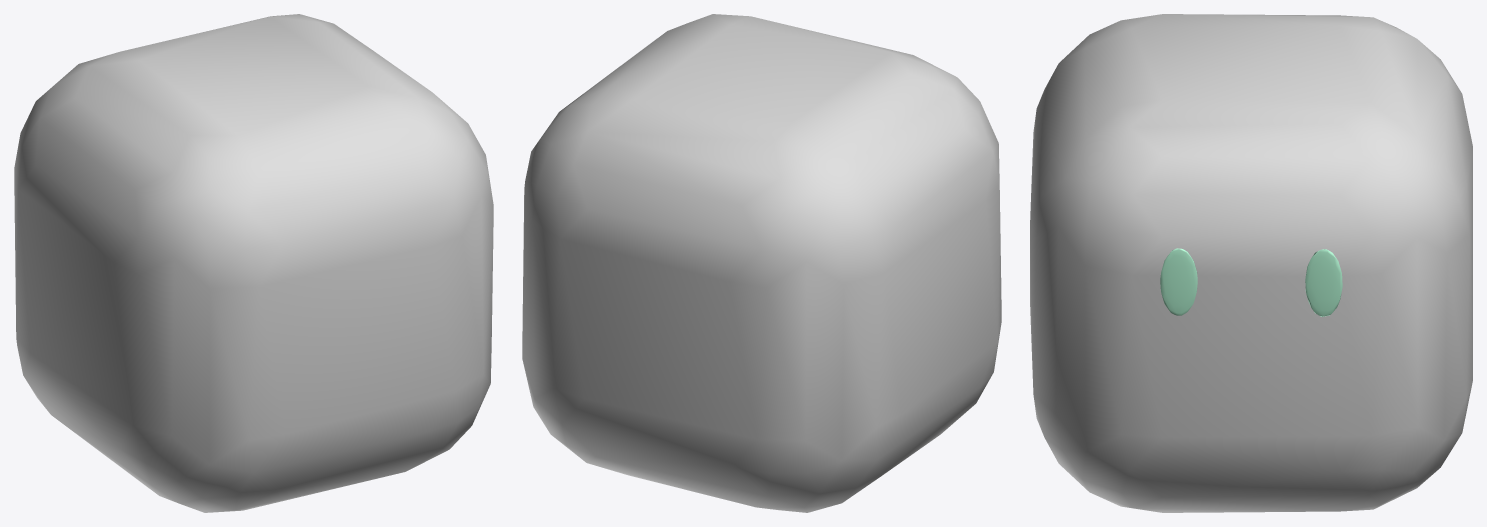
File: slimeus.fbx
3 views of the same model, side by side, from view 1: azimuth 30°, elevation 25°; view 2: azimuth 150°, elevation 25°; view 3: azimuth 270°, elevation 25° (orthographic). The views are drawn at different scales.
Parts seen in each view (by area): view 1: Cube; view 2: Cube; view 3: Cube, Sphere.
Boxes of the visible parts, bbox=[...] form: Cube: bbox=[14, 14, 493, 512]; Cube: bbox=[522, 14, 1001, 512]; Cube: bbox=[1030, 14, 1472, 512]; Sphere: bbox=[1160, 248, 1342, 316].
Size of the model in its own units: 201 by 200 by 200.
